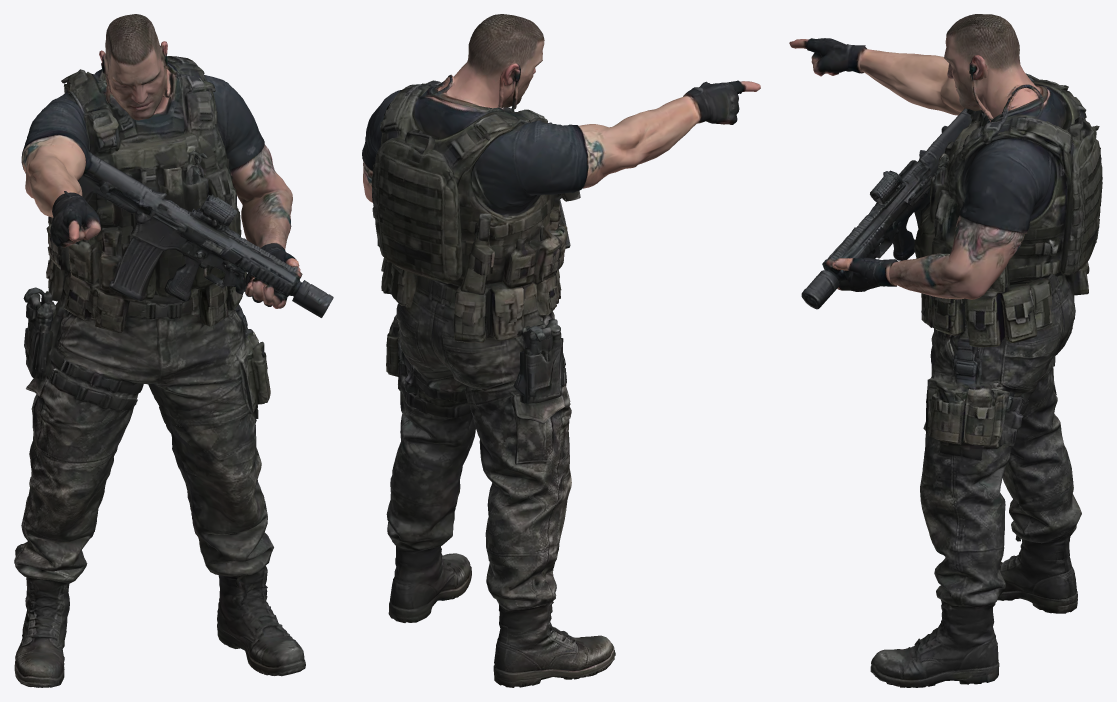
Rendered from glukhar.glb.
3 views of the same model, side by side, from view 1: azimuth 30°, elevation 25°; view 2: azimuth 150°, elevation 25°; view 3: azimuth 270°, elevation 25° (orthographic). The views are drawn at different scales.
Parts seen in each view (by area): view 1: tripo_node_534f8197-b941-4d5d-b3be-2273807a0366; view 2: tripo_node_534f8197-b941-4d5d-b3be-2273807a0366; view 3: tripo_node_534f8197-b941-4d5d-b3be-2273807a0366.
Boxes of the visible parts, box(x1,y1,x2,y2) form: tripo_node_534f8197-b941-4d5d-b3be-2273807a0366: box(14, 14, 333, 687); tripo_node_534f8197-b941-4d5d-b3be-2273807a0366: box(362, 14, 760, 687); tripo_node_534f8197-b941-4d5d-b3be-2273807a0366: box(789, 14, 1102, 687).
Bounding box in the file's own units: 0.4899 × 0.9791 × 0.4526.
1 material, 1 textured.
